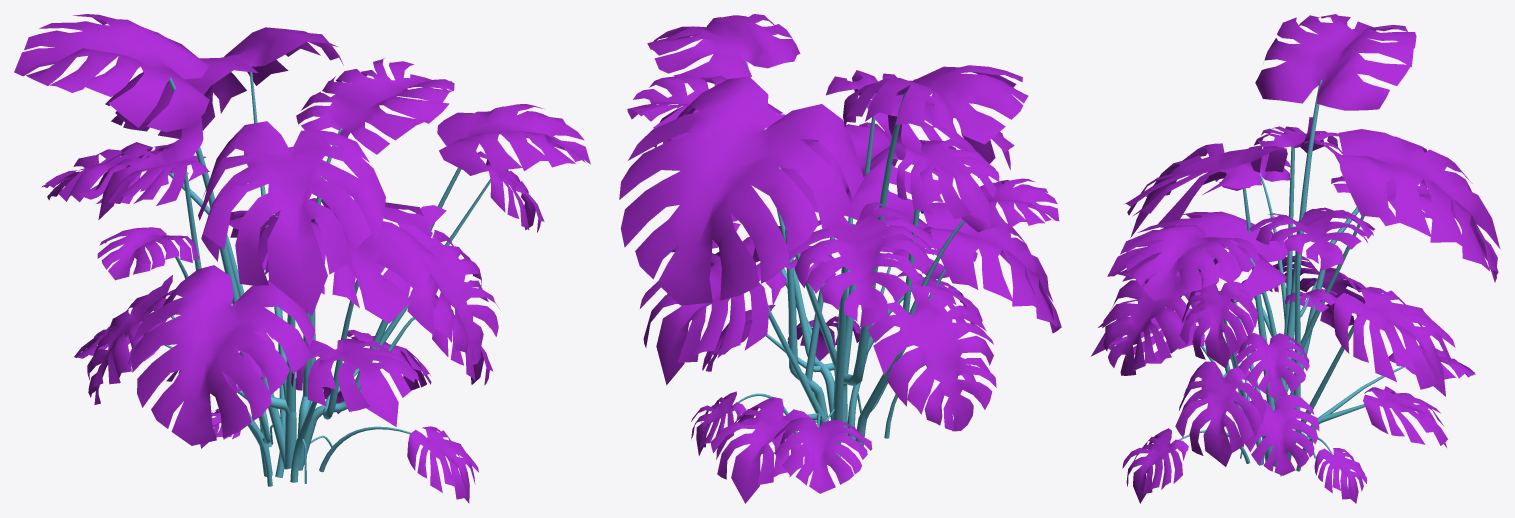
File: leaf.obj
3 renders of one model, left to right at view 1: azimuth 30°, elevation 25°; view 2: azimuth 150°, elevation 25°; view 3: azimuth 270°, elevation 25°, orthographic. The views are drawn at different scales.
Parts seen in each view (by area): view 1: Leaves, root_HP_1; view 2: Leaves, root_HP_1; view 3: Leaves, root_HP_1.
Boxes of the visible parts, x1,y1,x2,y2 form: Leaves: (14, 14, 590, 503); root_HP_1: (164, 65, 490, 486); Leaves: (619, 14, 1061, 503); root_HP_1: (737, 61, 964, 457); Leaves: (1091, 14, 1500, 503); root_HP_1: (1178, 79, 1404, 476).
Size of the model in its own units: 1.01 by 0.9391 by 0.9162.
